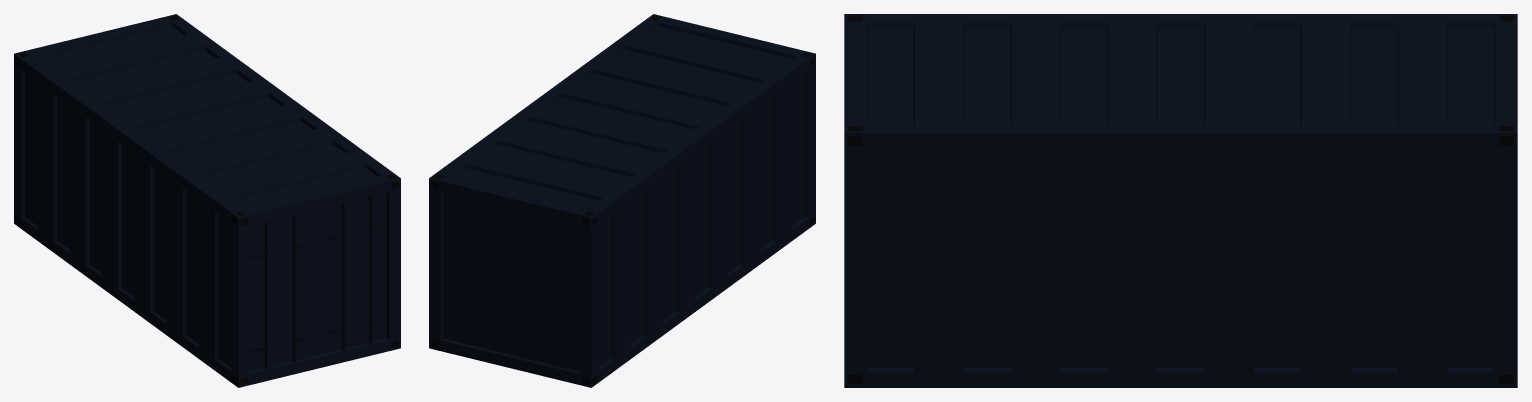
The model's file is SM_container_small.FBX.
The picture shows the model from 3 angles, left to right: view 1: azimuth 30°, elevation 25°; view 2: azimuth 150°, elevation 25°; view 3: azimuth 270°, elevation 25°; orthographic projection. The views are drawn at different scales.
Parts seen in each view (by area): view 1: sm_CONTAINER_small; view 2: sm_CONTAINER_small; view 3: sm_CONTAINER_small.
Part boxes in pixels (x1=…): sm_CONTAINER_small: x1=14, y1=14, x2=400, y2=387; sm_CONTAINER_small: x1=429, y1=14, x2=815, y2=387; sm_CONTAINER_small: x1=844, y1=14, x2=1517, y2=387.
Bounding box in the file's own units: 250 × 250 × 598.
